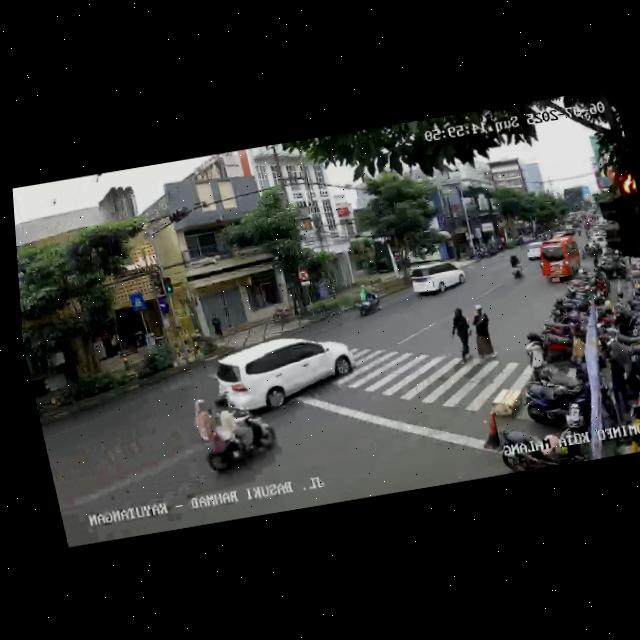car: (208, 328, 358, 422), (534, 234, 587, 287), (406, 257, 469, 299)
motorcycle: (188, 388, 280, 482), (352, 282, 382, 320), (506, 253, 527, 283)
person: (464, 302, 502, 365), (445, 304, 478, 365)
